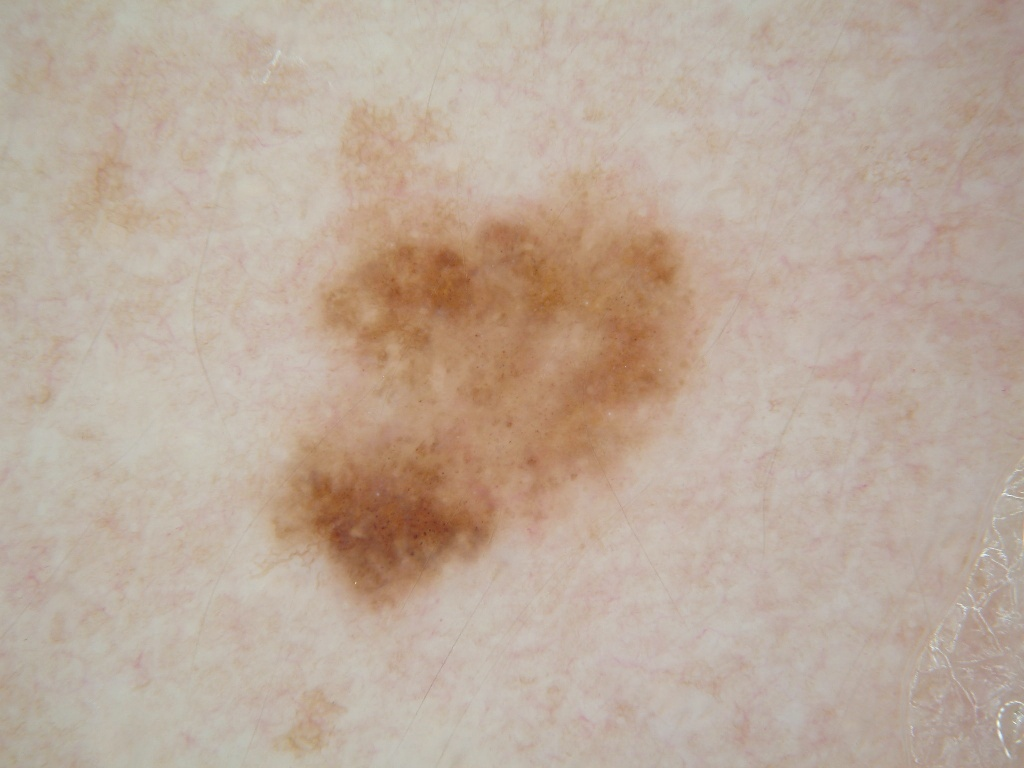Detected Lesion: (263, 97, 708, 616)
